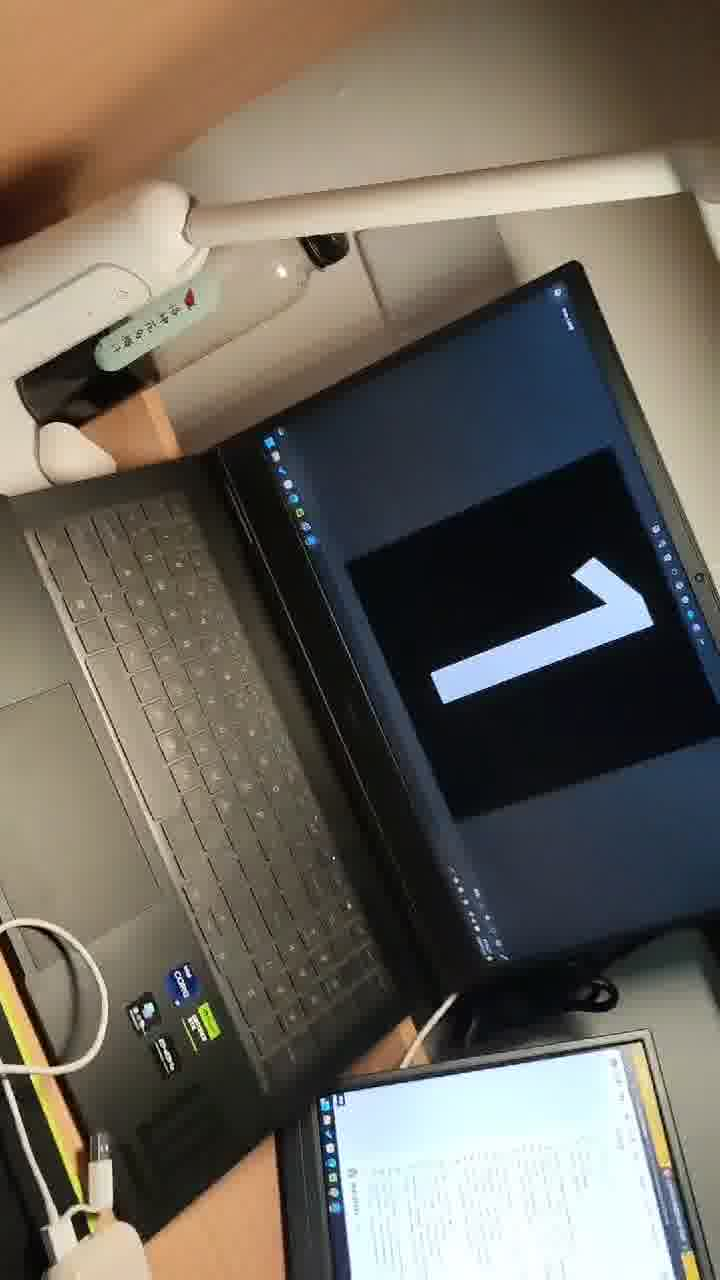one: (342, 471, 707, 831)
